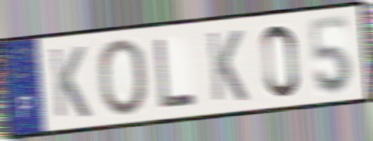0: (260, 22, 300, 99)
5: (307, 11, 355, 97)
K: (48, 44, 93, 121), (205, 28, 250, 104)
L: (153, 36, 198, 110)
O: (95, 36, 149, 118)
